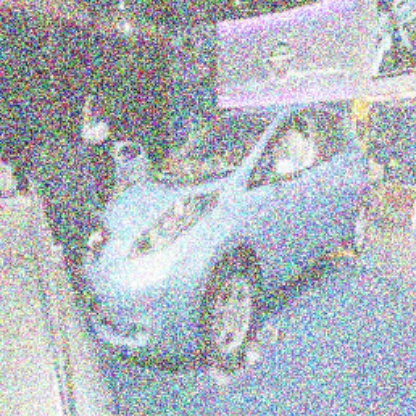Vehicle: (79, 105, 374, 374)
